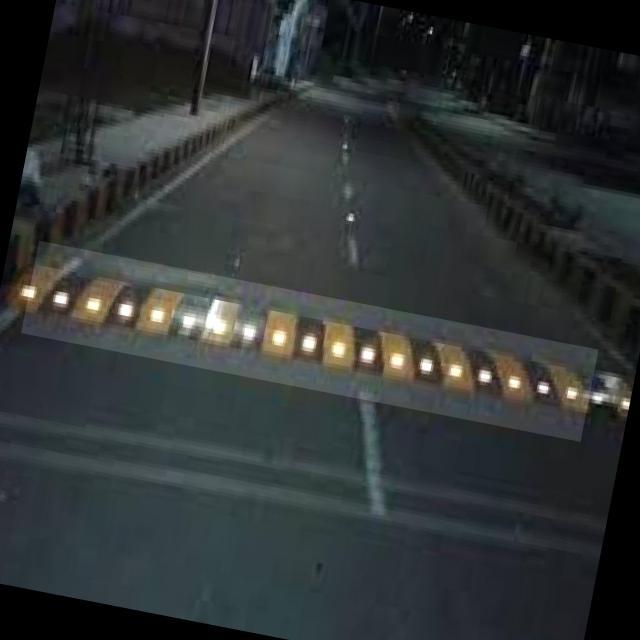bump: (20, 242, 598, 442)
